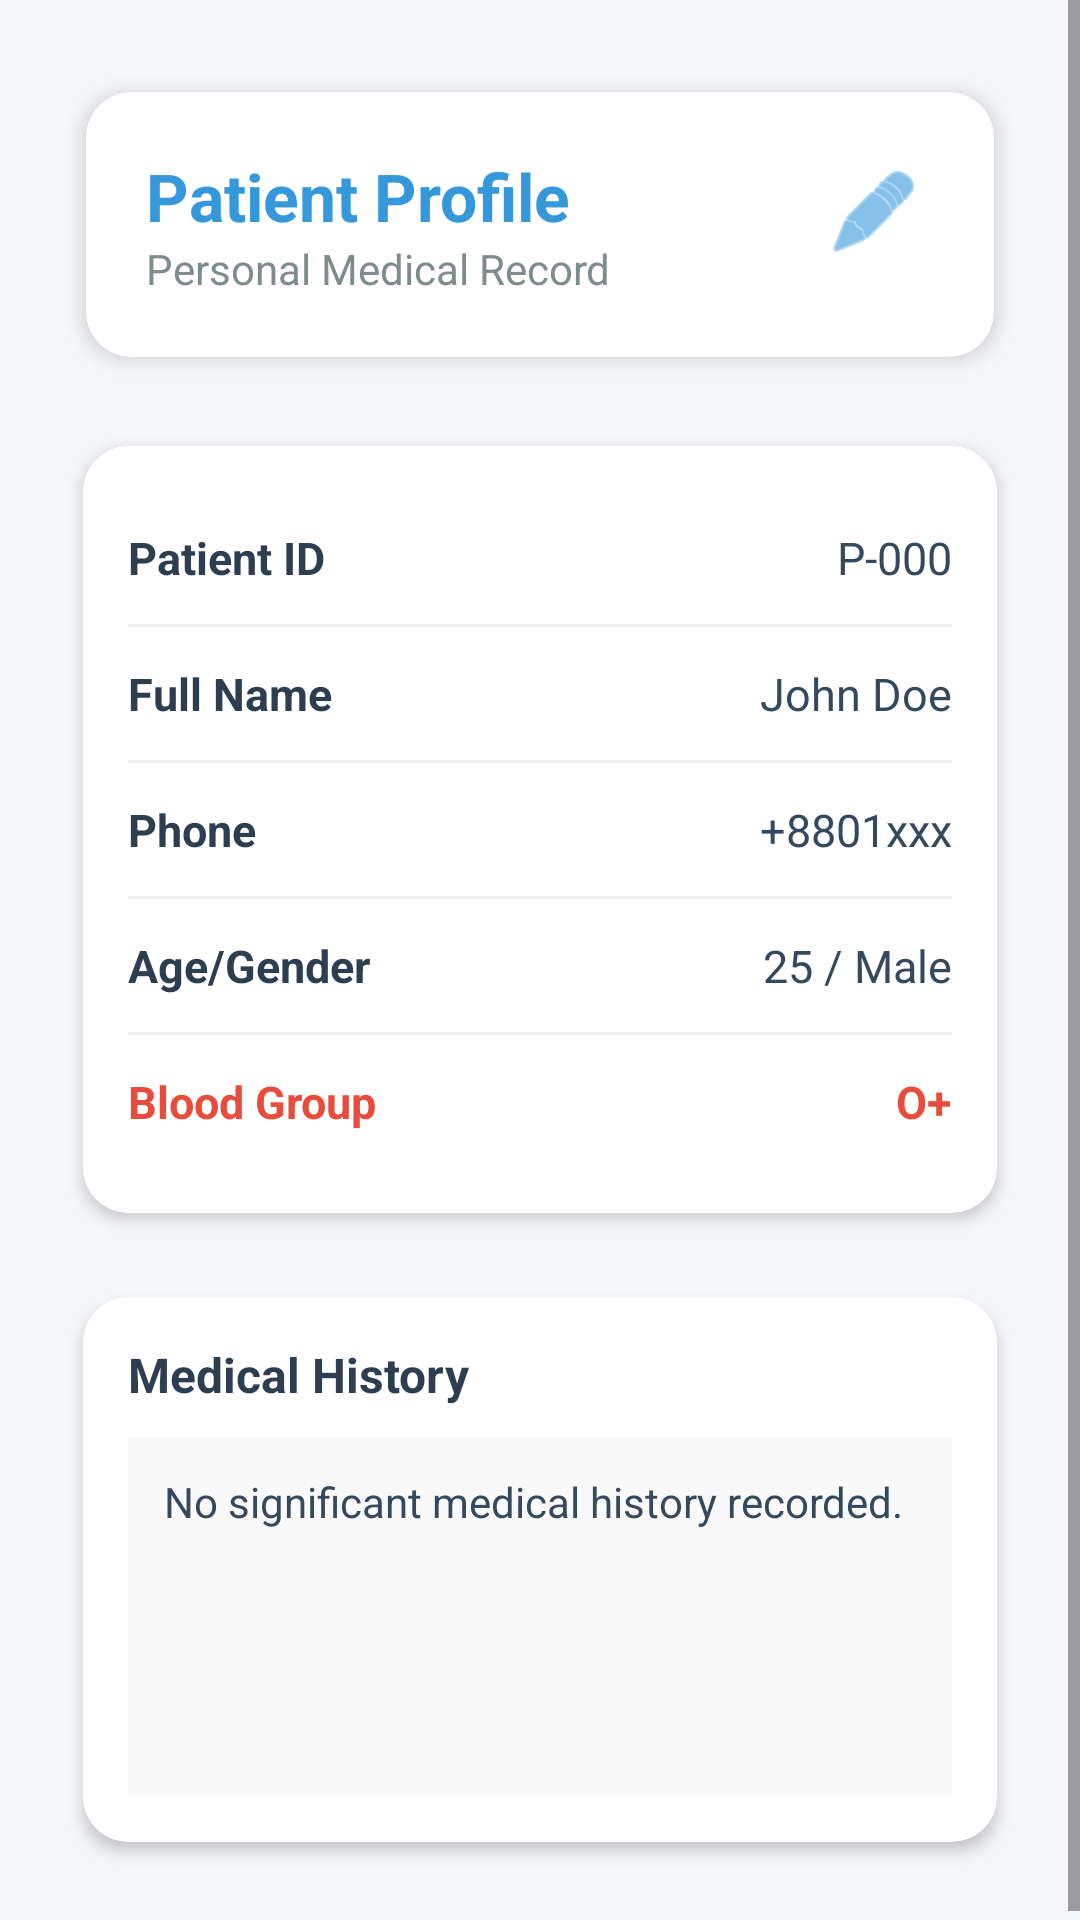

Icon bounding boxes for this 1080 x 1920 phone screenshot, format (x1, y1, x2, y2):
edit: (833, 171, 914, 252)
